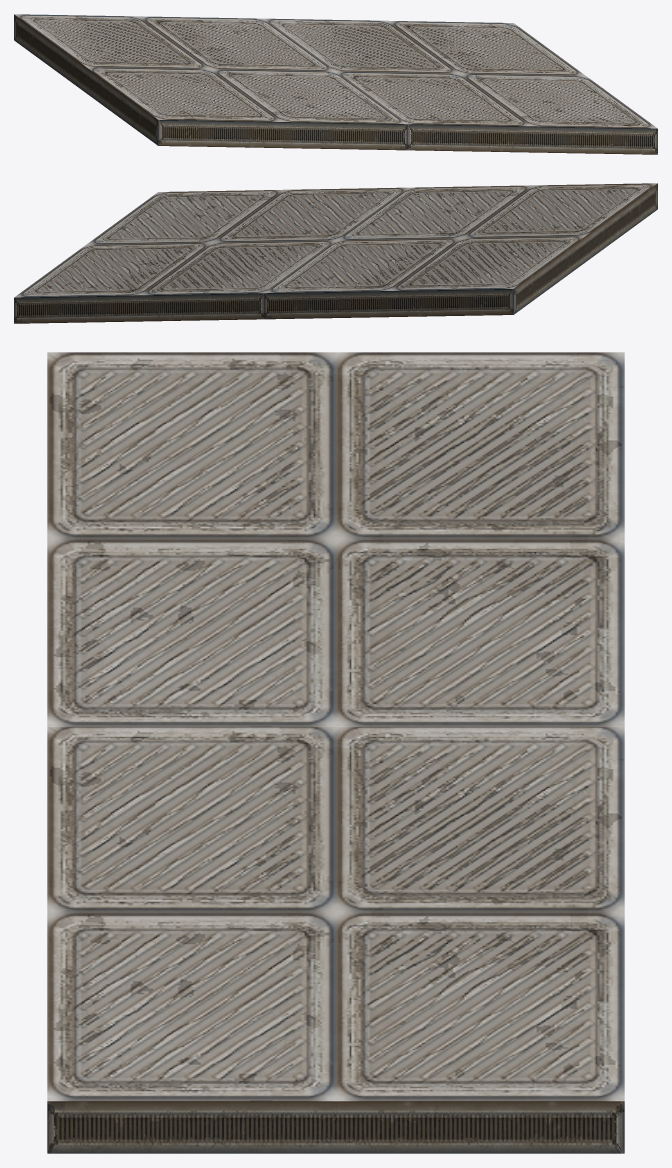
The model's file is scifi_ramp2_8.FBX.
3 renders of one model, top to bottom at view 1: azimuth 30°, elevation 25°; view 2: azimuth 150°, elevation 25°; view 3: azimuth 270°, elevation 25°, orthographic. The views are drawn at different scales.
Parts seen in each view (by area): view 1: Plane062; view 2: Plane062; view 3: Plane062.
Part boxes in pixels (bbox=[...]): Plane062: bbox=[14, 14, 657, 154]; Plane062: bbox=[14, 183, 657, 323]; Plane062: bbox=[47, 352, 624, 1153].
Bounding box in the file's own units: 508 × 152 × 254.
